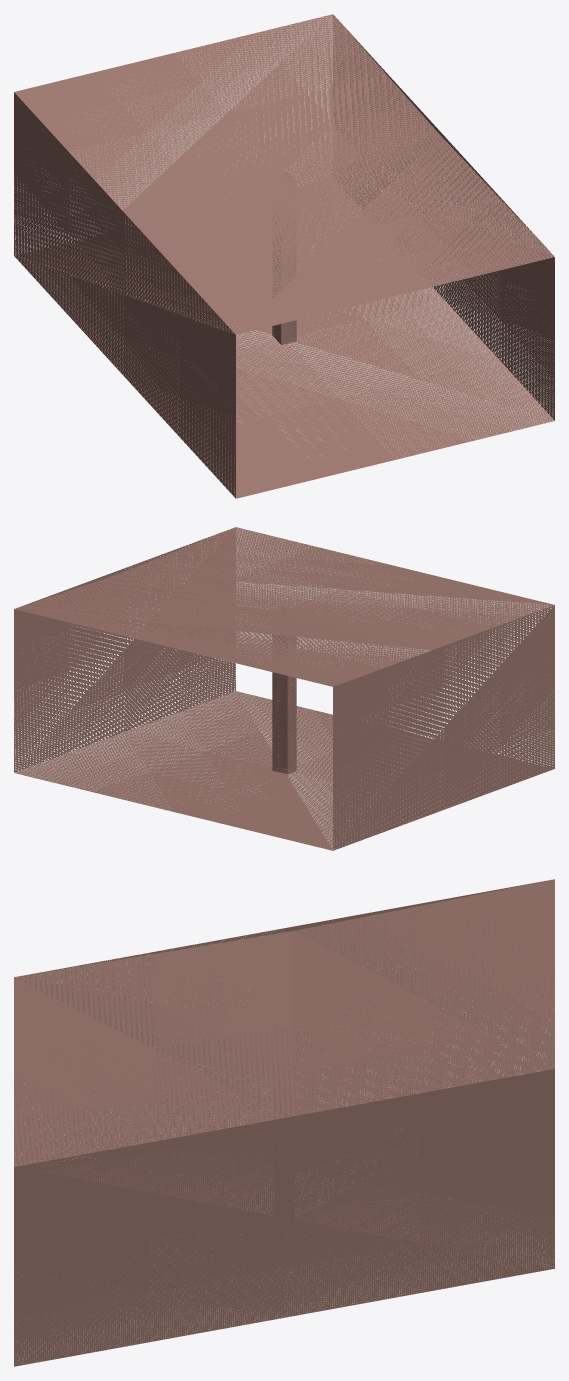
File: SW_ENV_RailTunnel_TrackRise_Double_10m_FF_Collision.fbx
3 renders of one model, top to bottom at view 1: azimuth 30°, elevation 25°; view 2: azimuth 150°, elevation 25°; view 3: azimuth 270°, elevation 25°, orthographic. The views are drawn at different scales.
Visible parts, largest first — view 1: SW_ENV_RailTunnel_TrackRise_Double_10m_FF_Collision; view 2: SW_ENV_RailTunnel_TrackRise_Double_10m_FF_Collision; view 3: SW_ENV_RailTunnel_TrackRise_Double_10m_FF_Collision.
Boxes of the visible parts, <box> form: SW_ENV_RailTunnel_TrackRise_Double_10m_FF_Collision: <box>14,14,554,498</box>; SW_ENV_RailTunnel_TrackRise_Double_10m_FF_Collision: <box>14,527,554,850</box>; SW_ENV_RailTunnel_TrackRise_Double_10m_FF_Collision: <box>14,879,554,1366</box>.
Bounding box in the file's own units: 830 × 608 × 1000.
